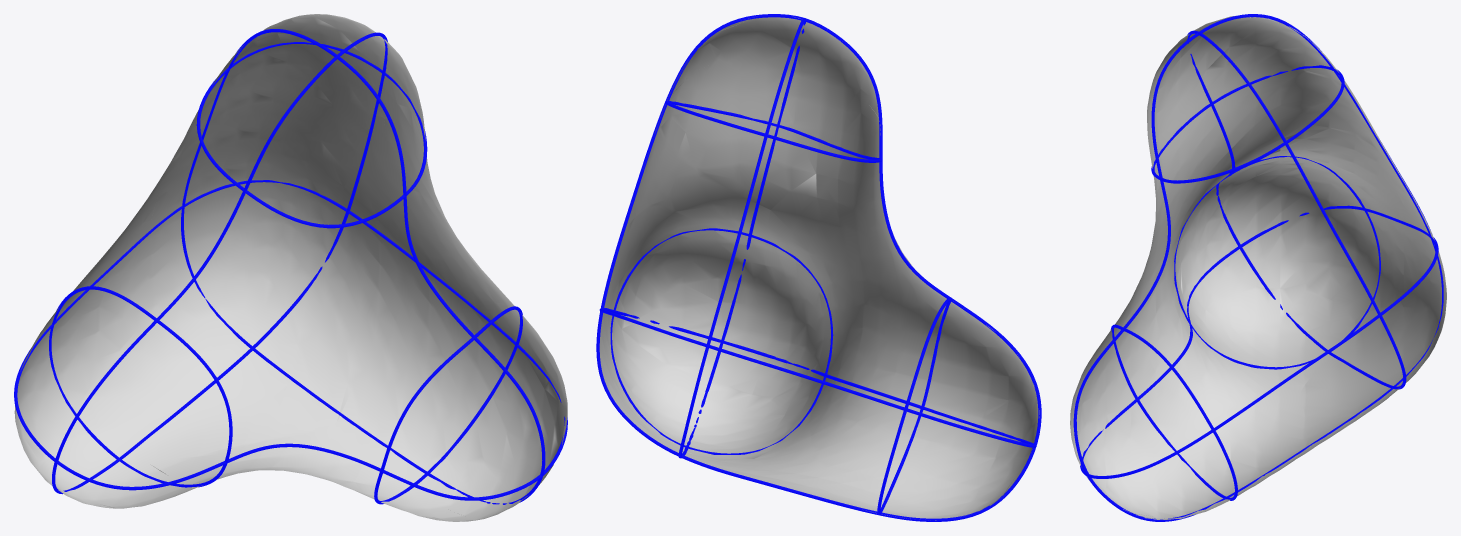
File: flowrep_trebol_sketch_proxy.glb
3 renders of one model, left to right at view 1: azimuth 30°, elevation 25°; view 2: azimuth 150°, elevation 25°; view 3: azimuth 270°, elevation 25°, orthographic. The views are drawn at different scales.
Visible parts, largest first — view 1: flowrep_trebol_surface, flowrep_trebol; view 2: flowrep_trebol_surface, flowrep_trebol; view 3: flowrep_trebol_surface, flowrep_trebol.
Part boxes in pixels (x1,y1,x2,y2): flowrep_trebol_surface: [14, 14, 567, 521]; flowrep_trebol: [14, 29, 567, 504]; flowrep_trebol_surface: [599, 17, 1039, 520]; flowrep_trebol: [596, 14, 1041, 521]; flowrep_trebol_surface: [1070, 15, 1446, 519]; flowrep_trebol: [1073, 14, 1443, 521].
Size of the model in its own units: 0.6368 by 0.6228 by 0.4806.
